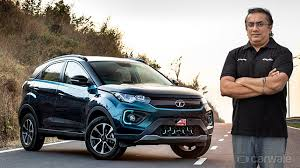Tata Nexon: (19, 53, 215, 162)
